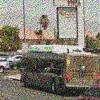buses: (16, 48, 99, 93)
